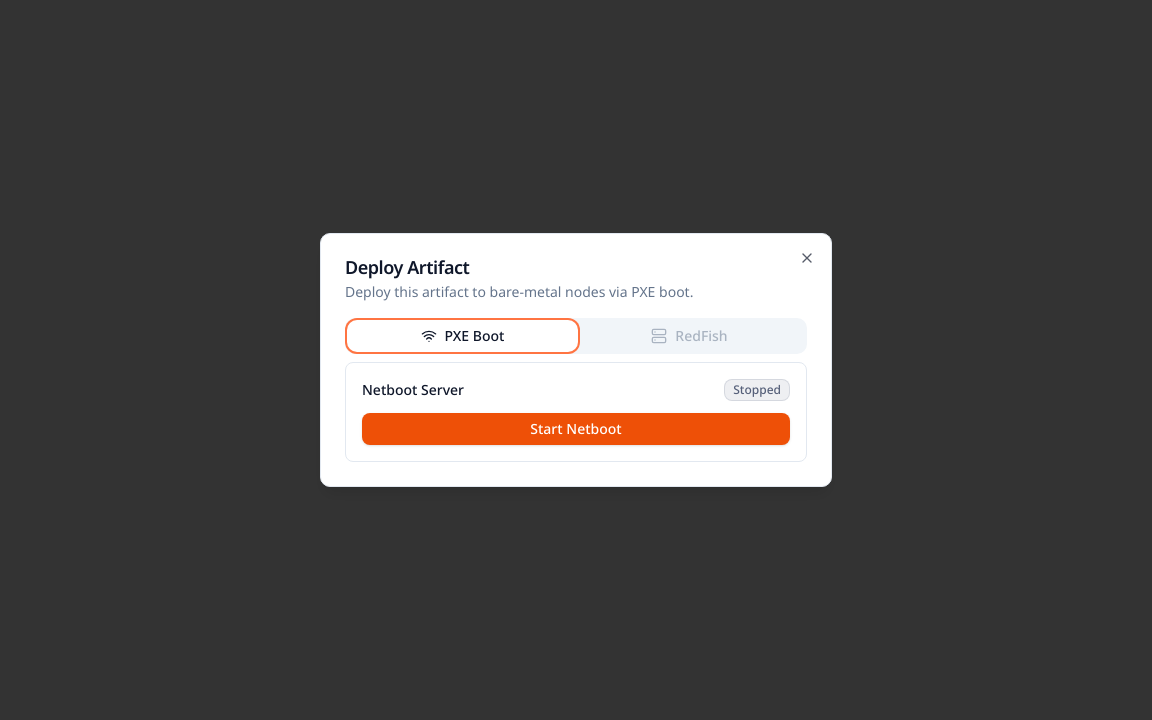
Test: DeployDialog methods › shows the running server when netboot is already running
Click the button "Start Netboot" at [576, 429], box left=362, top=413, right=790, bottom=445
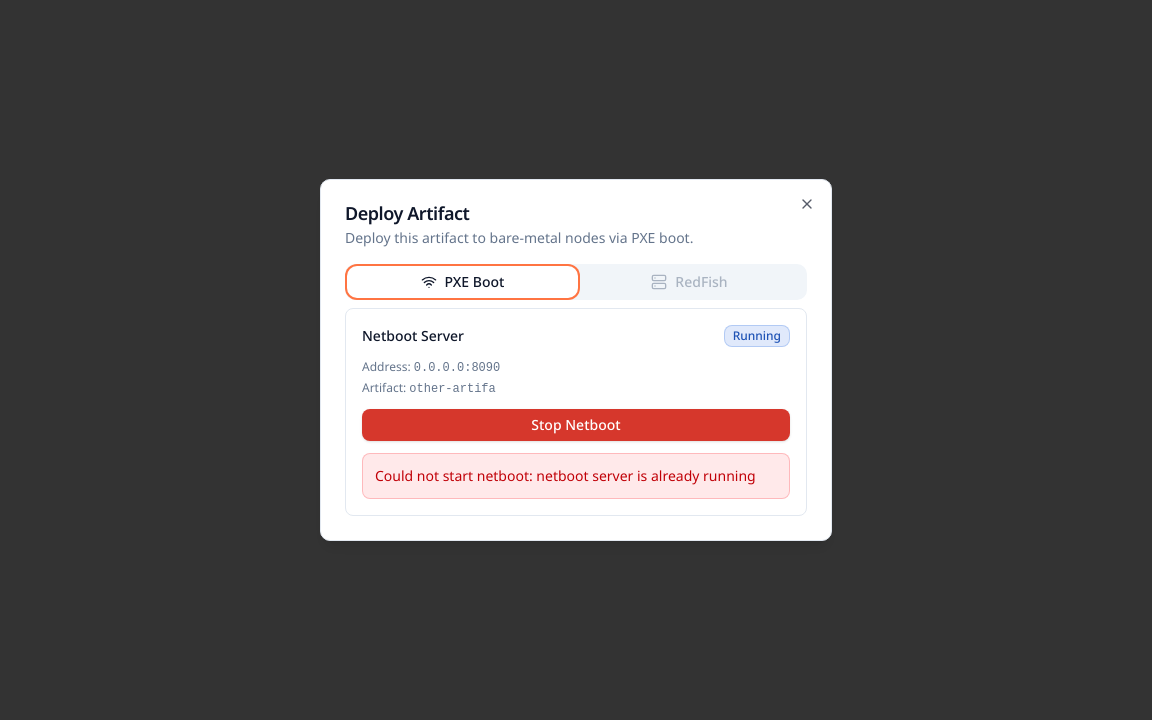
Now the text "Could not start netboot: netboot server is already running" is shown, box left=362, top=453, right=790, bottom=499
Now the button "Stop Netboot" is shown, box left=362, top=409, right=790, bottom=441
